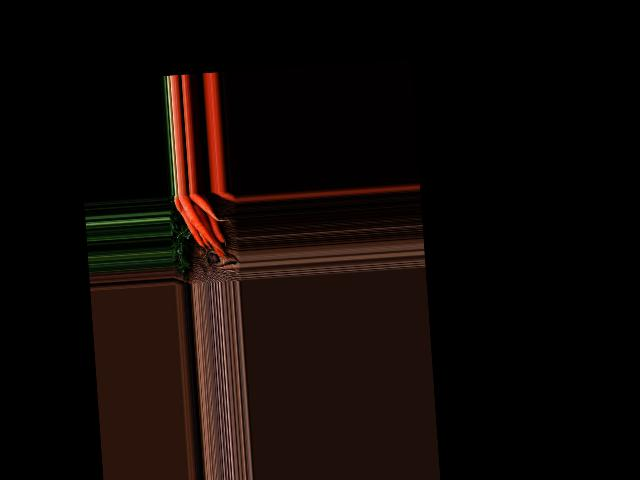carrot: (190, 193, 218, 221)
